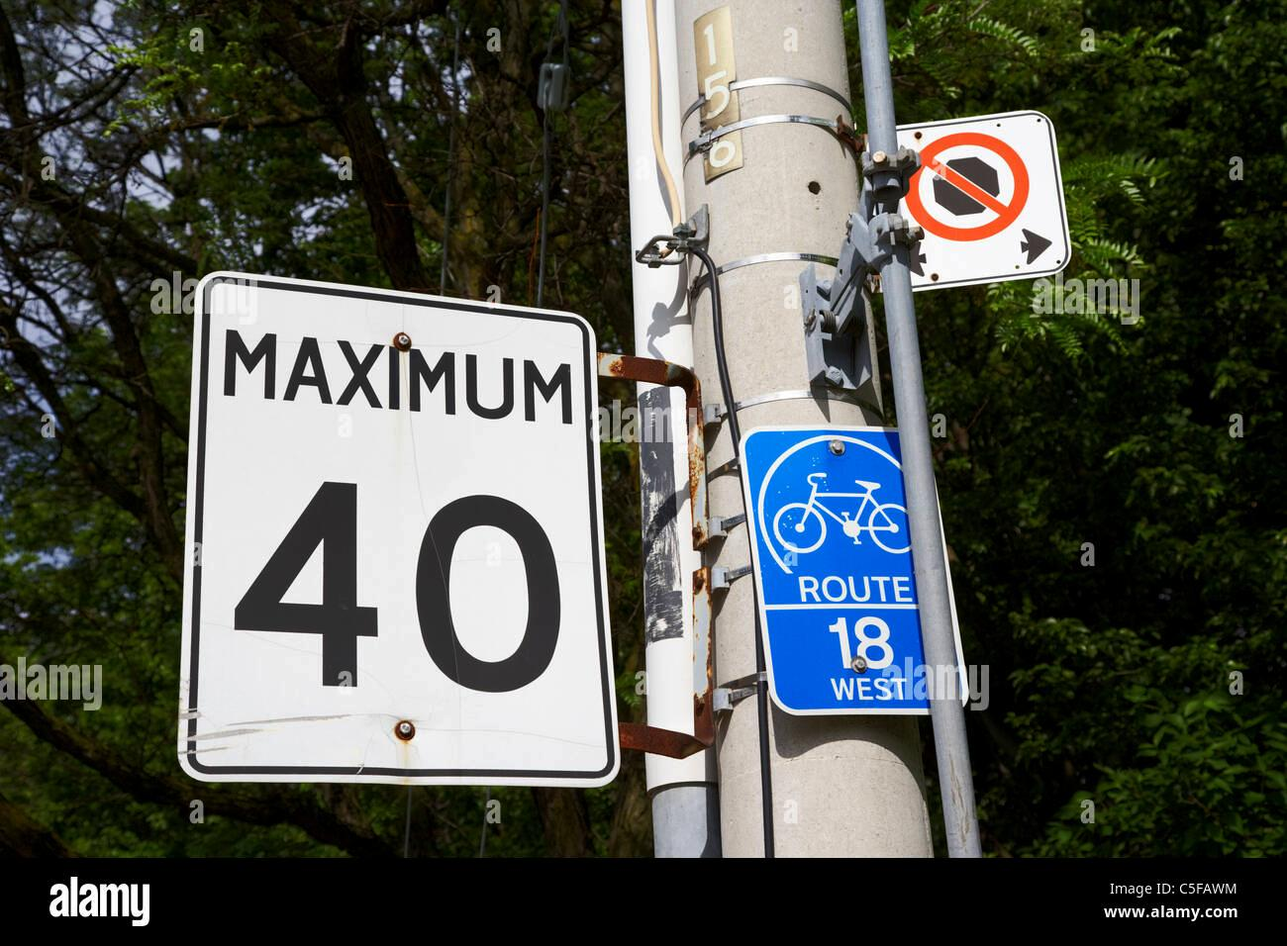speed limit sign: (180, 273, 614, 792)
